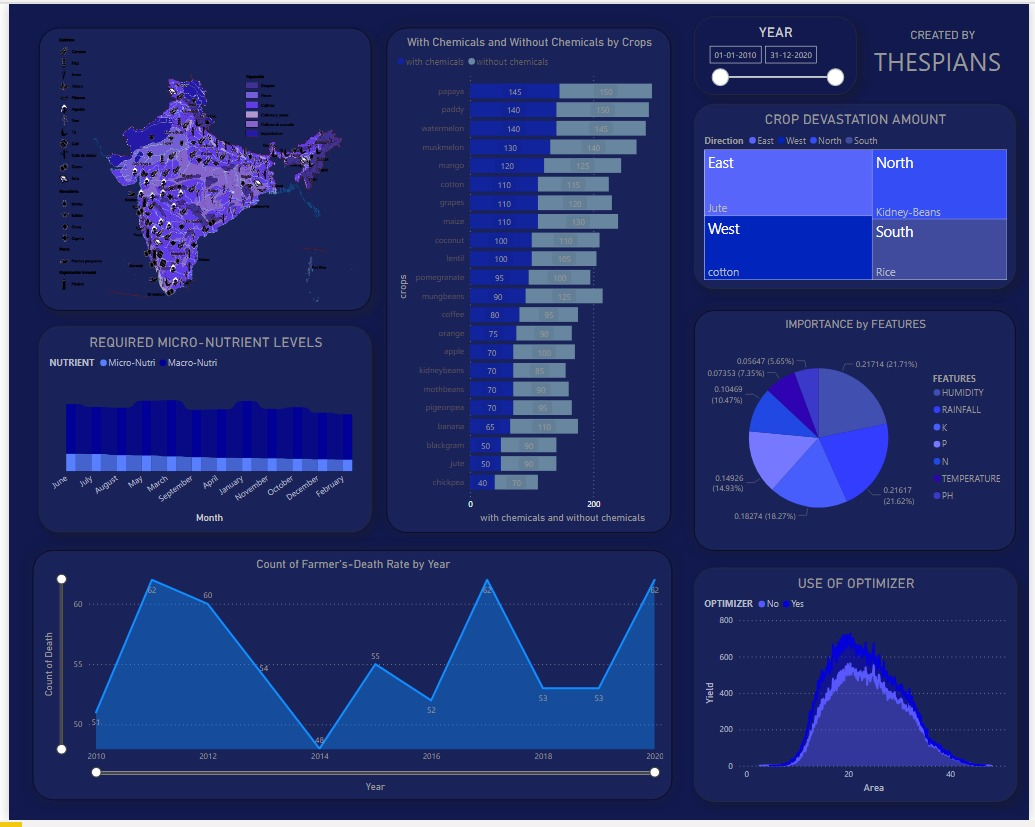

The dashboard page shown, as its layout file describes it:
{"tool":"powerbi","page":{"name":"Duplicate of Page 1","canvas":[1500,1200],"ordinal":1},"visuals":[{"type":"ribbonChart","title":"REQUIRED MICRO-NUTRIENT LEVELS","fields":{"Category":["Table (2).Month"],"Y":["Sum(Table (2).Micro-Nutri)","Sum(Table (2).Macro-Nutri)"]},"box":[43.4,474.2,488.7,302.3],"z":0},{"type":"treemap","title":"CROP DEVASTATION AMOUNT","fields":{"Group":["Sheet1.Direction"],"Values":["Sum(Sheet1.Devastation)"],"Details":["Sheet1.Crops"]},"box":[1006.5,146.6,473,271.7],"z":1000},{"type":"stackedAreaChart","title":"USE OF OPTIMIZER","fields":{"Category":["weatherAUS.MaxTemp"],"Series":["weatherAUS.RainTomorrow"],"Y":["CountNonNull(weatherAUS.RainToday)"]},"box":[1006.5,828.7,474.9,344],"z":2000},{"type":"slicer","title":"YEAR","fields":{"Values":["weatherAUS (2).Date"]},"box":[1007,17.9,238.8,115.4],"z":3000},{"type":"textbox","title":"CREATED BY","box":[1266.4,35.2,213,80.1],"z":4000},{"type":"barChart","title":"With Chemicals and Without Chemicals by Crops","fields":{"Category":["Table.crops"],"Y":["Sum(Table.with chemicals)","Sum(Table.without chemicals)"]},"box":[555.7,34.4,418.1,742.1],"z":5000},{"type":"pieChart","fields":{"Category":["IMPORTANCE.FEATURES"],"Y":["Sum(IMPORTANCE.IMPORTANCE)"]},"box":[1006.5,449.5,473,353.7],"z":6000},{"type":"areaChart","title":"Count of Farmer''s-Death Rate by Year","fields":{"Category":["weatherAUS (2).Date.Variation.Date Hierarchy.Year","weatherAUS (2).Date.Variation.Date Hierarchy.Quarter","weatherAUS (2).Date.Variation.Date Hierarchy.Month","weatherAUS (2).Date.Variation.Date Hierarchy.Day"],"Y":["Count(weatherAUS (2).Death)"]},"box":[35.2,803.3,940.1,367.4],"z":7000},{"type":"image","box":[43.4,34.4,488.7,416.3],"z":8000}]}

Visuals, with their boxes in screenshot pixels (x1, y1, x2, y2), scaled from the page's 1500x1200 canvas onto the 1035x827 screenshot:
"REQUIRED MICRO-NUTRIENT LEVELS" ribbonChart: [30, 327, 367, 535]
"CROP DEVASTATION AMOUNT" treemap: [694, 101, 1021, 288]
"USE OF OPTIMIZER" stackedAreaChart: [694, 571, 1022, 808]
"YEAR" slicer: [695, 12, 860, 92]
"CREATED BY" textbox: [874, 24, 1021, 79]
"With Chemicals and Without Chemicals by Crops" barChart: [383, 24, 672, 535]
pieChart - IMPORTANCE.FEATURES x Sum(IMPORTANCE.IMPORTANCE): [694, 310, 1021, 554]
"Count of Farmer''s-Death Rate by Year" areaChart: [24, 554, 673, 807]
image: [30, 24, 367, 311]
